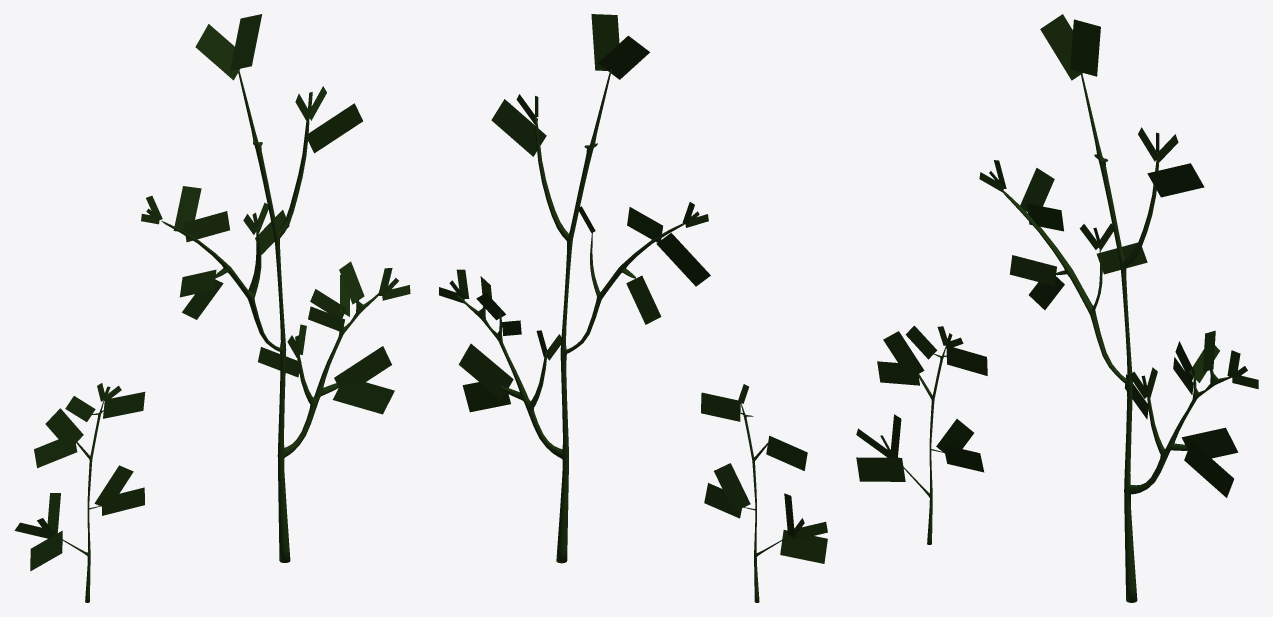
Rendered from Sapling and Small Tree.fbx.
3 renders of one model, left to right at view 1: azimuth 30°, elevation 25°; view 2: azimuth 150°, elevation 25°; view 3: azimuth 330°, elevation 25°, orthographic. The views are drawn at different scales.
Parts seen in each view (by area): view 1: Small Tree, sapling; view 2: Small Tree, sapling; view 3: Small Tree, sapling.
Part boxes in pixels (x1,y1,x2,y2): Small Tree: [141, 14, 410, 562]; sapling: [14, 383, 145, 602]; Small Tree: [439, 14, 710, 563]; sapling: [701, 384, 827, 602]; Small Tree: [979, 14, 1258, 602]; sapling: [856, 325, 987, 544].
Bounding box in the file's own units: 65.77 × 89.18 × 5.16.
